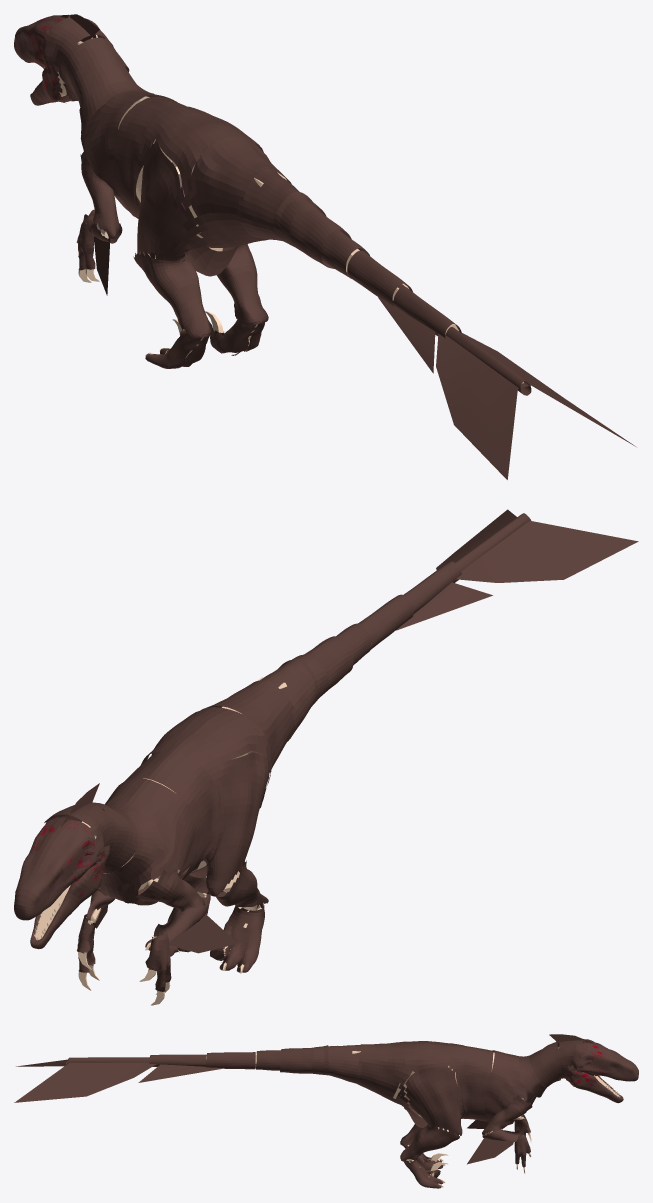
The model's file is UtahRaptor.fbx.
The picture shows the model from 3 angles, top to bottom: view 1: azimuth 30°, elevation 25°; view 2: azimuth 150°, elevation 25°; view 3: azimuth 270°, elevation 25°; orthographic projection. The views are drawn at different scales.
Parts seen in each view (by area): view 1: TailFeathers_01_SkinGeo, Tail_01_SkinGeo, Hips_SkinGeo, L_Thigh_SkinGeo, L_Shin_SkinGeo, Tail_02_SkinGeo, Ribcage_01_SkinGeo, Ribcage_02_SkinGeo, Tail_03_SkinGeo, R_Shin_SkinGeo, Neck_01_SkinGeo, Neck_02_SkinGeo (+10 smaller); view 2: TailFeathers_01_SkinGeo, Ribcage_01_SkinGeo, TopJaw_SkinGeo, Hips_SkinGeo, L_Thigh_SkinGeo, Ribcage_02_SkinGeo, Tail_01_SkinGeo, Tail_02_SkinGeo, Neck_04_SkinGeo, BottomJaw_SkinGeo, Tail_03_SkinGeo, L_Arm_01_SkinGeo (+11 smaller); view 3: TailFeathers_01_SkinGeo, R_Thigh_SkinGeo, Tail_01_SkinGeo, Hips_SkinGeo, Ribcage_01_SkinGeo, Ribcage_02_SkinGeo, TopJaw_SkinGeo, Tail_02_SkinGeo, R_Shin_SkinGeo, Tail_03_SkinGeo, BottomJaw_SkinGeo, Tail_05_SkinGeo (+11 smaller).
Part boxes in pixels (x1=…): TailFeathers_01_SkinGeo: x1=436, y1=333, x2=635, y2=479; Tail_01_SkinGeo: x1=189, y1=136, x2=291, y2=247; Hips_SkinGeo: x1=134, y1=106, x2=263, y2=276; L_Thigh_SkinGeo: x1=137, y1=140, x2=192, y2=262; L_Shin_SkinGeo: x1=133, y1=252, x2=212, y2=339; Tail_02_SkinGeo: x1=238, y1=167, x2=326, y2=243; Ribcage_01_SkinGeo: x1=80, y1=89, x2=177, y2=218; Ribcage_02_SkinGeo: x1=114, y1=97, x2=186, y2=216; Tail_03_SkinGeo: x1=273, y1=191, x2=351, y2=268; R_Shin_SkinGeo: x1=217, y1=244, x2=268, y2=325; Neck_01_SkinGeo: x1=41, y1=17, x2=113, y2=101; Neck_02_SkinGeo: x1=62, y1=37, x2=129, y2=96; TailFeathers_01_SkinGeo: x1=436, y1=509, x2=638, y2=582; Ribcage_01_SkinGeo: x1=99, y1=778, x2=197, y2=905; TopJaw_SkinGeo: x1=14, y1=817, x2=101, y2=920; Hips_SkinGeo: x1=141, y1=707, x2=271, y2=877; L_Thigh_SkinGeo: x1=203, y1=752, x2=269, y2=896; Ribcage_02_SkinGeo: x1=123, y1=742, x2=219, y2=892; Tail_01_SkinGeo: x1=200, y1=680, x2=294, y2=772; Tail_02_SkinGeo: x1=258, y1=654, x2=328, y2=741; Neck_04_SkinGeo: x1=101, y1=804, x2=160, y2=887; BottomJaw_SkinGeo: x1=30, y1=845, x2=109, y2=949; Tail_03_SkinGeo: x1=278, y1=636, x2=353, y2=698; L_Arm_01_SkinGeo: x1=135, y1=869, x2=205, y2=911; TailFeathers_01_SkinGeo: x1=14, y1=1059, x2=156, y2=1102; R_Thigh_SkinGeo: x1=405, y1=1066, x2=462, y2=1135; Tail_01_SkinGeo: x1=357, y1=1041, x2=412, y2=1109; Hips_SkinGeo: x1=398, y1=1041, x2=465, y2=1127; Ribcage_01_SkinGeo: x1=483, y1=1050, x2=536, y2=1122; Ribcage_02_SkinGeo: x1=455, y1=1045, x2=493, y2=1121; TopJaw_SkinGeo: x1=577, y1=1039, x2=638, y2=1081; Tail_02_SkinGeo: x1=311, y1=1044, x2=364, y2=1083; R_Shin_SkinGeo: x1=400, y1=1125, x2=459, y2=1161; Tail_03_SkinGeo: x1=280, y1=1045, x2=328, y2=1075; BottomJaw_SkinGeo: x1=566, y1=1060, x2=623, y2=1103; Tail_05_SkinGeo: x1=206, y1=1052, x2=255, y2=1069.
Size of the model in its own units: 3.26 by 5.99 by 23.81.
